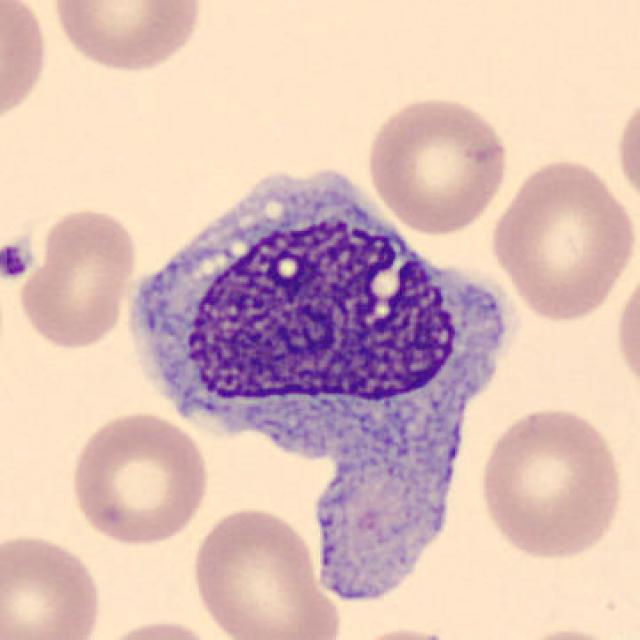Monocyte: (110, 154, 518, 496)
Platelets: (0, 238, 36, 282)
RBC: (487, 153, 638, 324), (474, 400, 628, 562), (362, 92, 514, 236), (186, 502, 340, 640), (66, 408, 212, 548), (15, 202, 140, 352), (46, 0, 208, 76), (0, 529, 107, 640), (0, 0, 52, 134), (611, 257, 640, 403), (611, 86, 640, 213), (85, 615, 226, 640), (336, 624, 475, 640), (503, 624, 631, 640)
